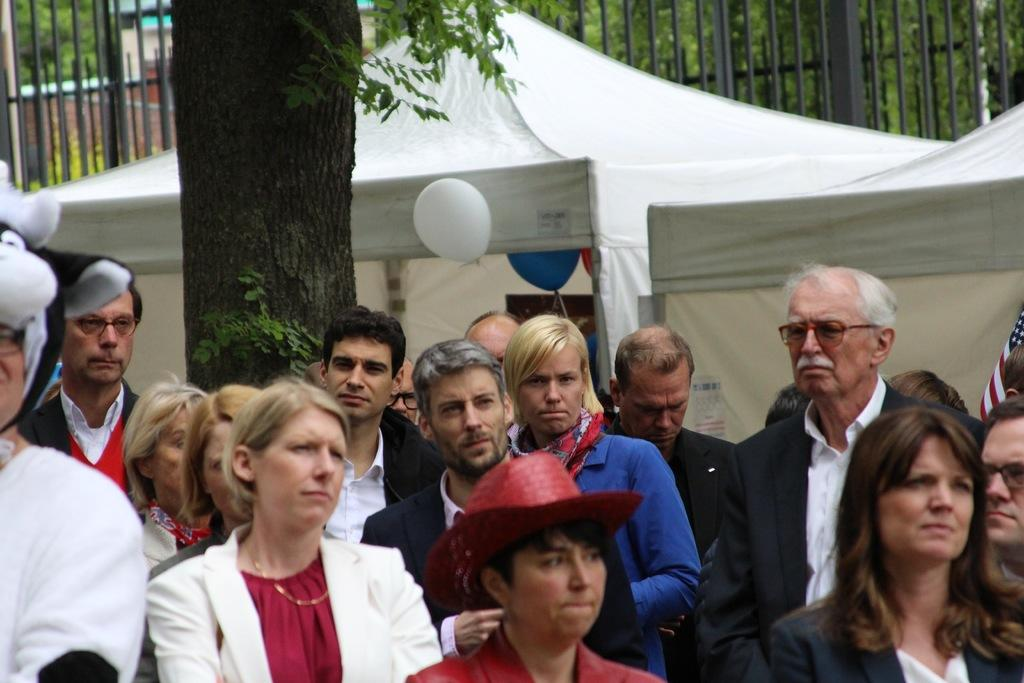Hat: (422, 451, 646, 613)
